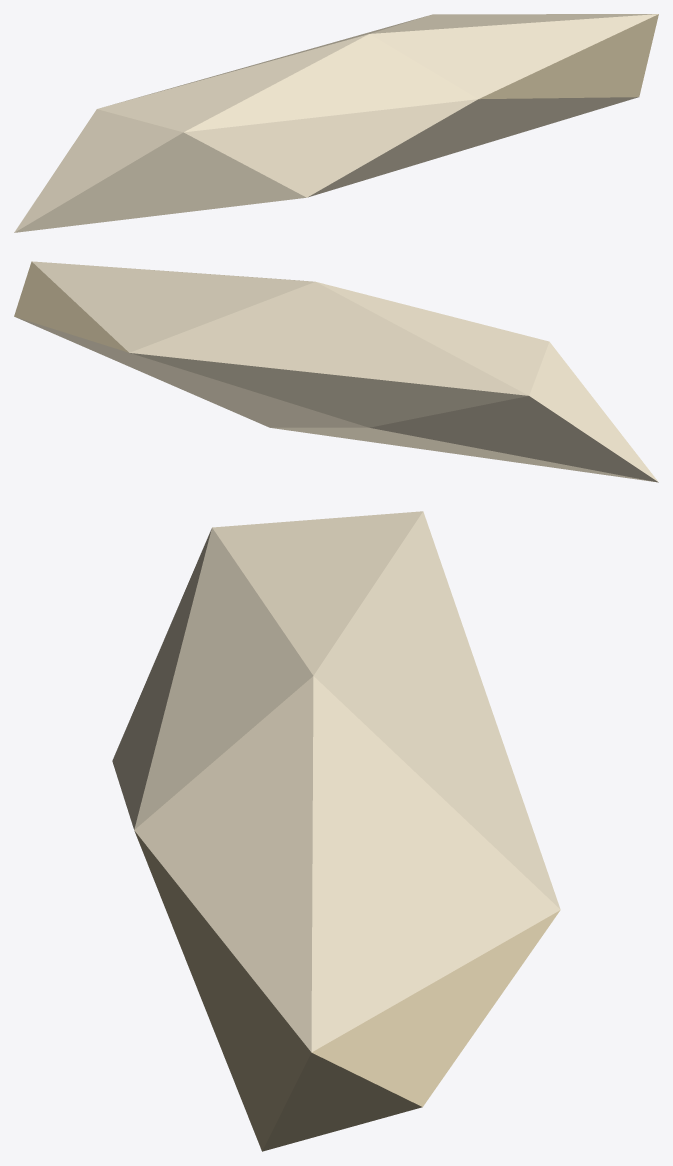
File: bone_shard_1.glb
3 renders of one model, top to bottom at view 1: azimuth 30°, elevation 25°; view 2: azimuth 150°, elevation 25°; view 3: azimuth 270°, elevation 25°, orthographic. The views are drawn at different scales.
Parts seen in each view (by area): view 1: bone_shard_1; view 2: bone_shard_1; view 3: bone_shard_1.
Part boxes in pixels (x1,y1,x2,y2): bone_shard_1: [14, 14, 658, 232]; bone_shard_1: [14, 261, 658, 482]; bone_shard_1: [112, 511, 560, 1151].
Size of the model in its own units: 0.0281 by 0.0062 by 0.00865.
